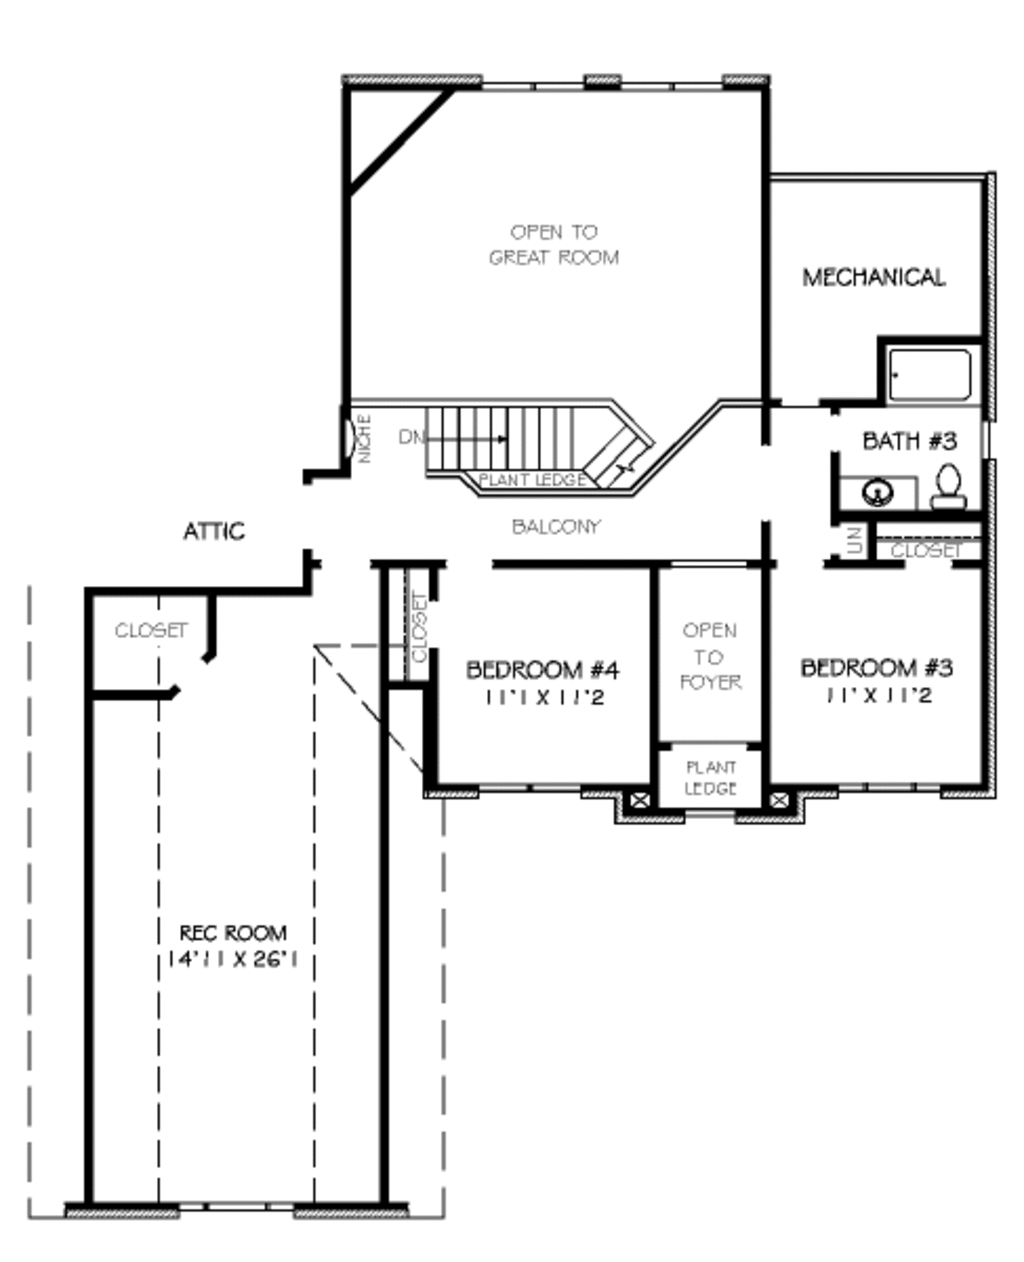large_sink: (930, 454, 972, 521)
small_sink: (837, 481, 912, 511)
stairs: (393, 394, 664, 492)
tub: (881, 338, 983, 408)
window: (626, 75, 722, 100), (481, 75, 591, 90)
